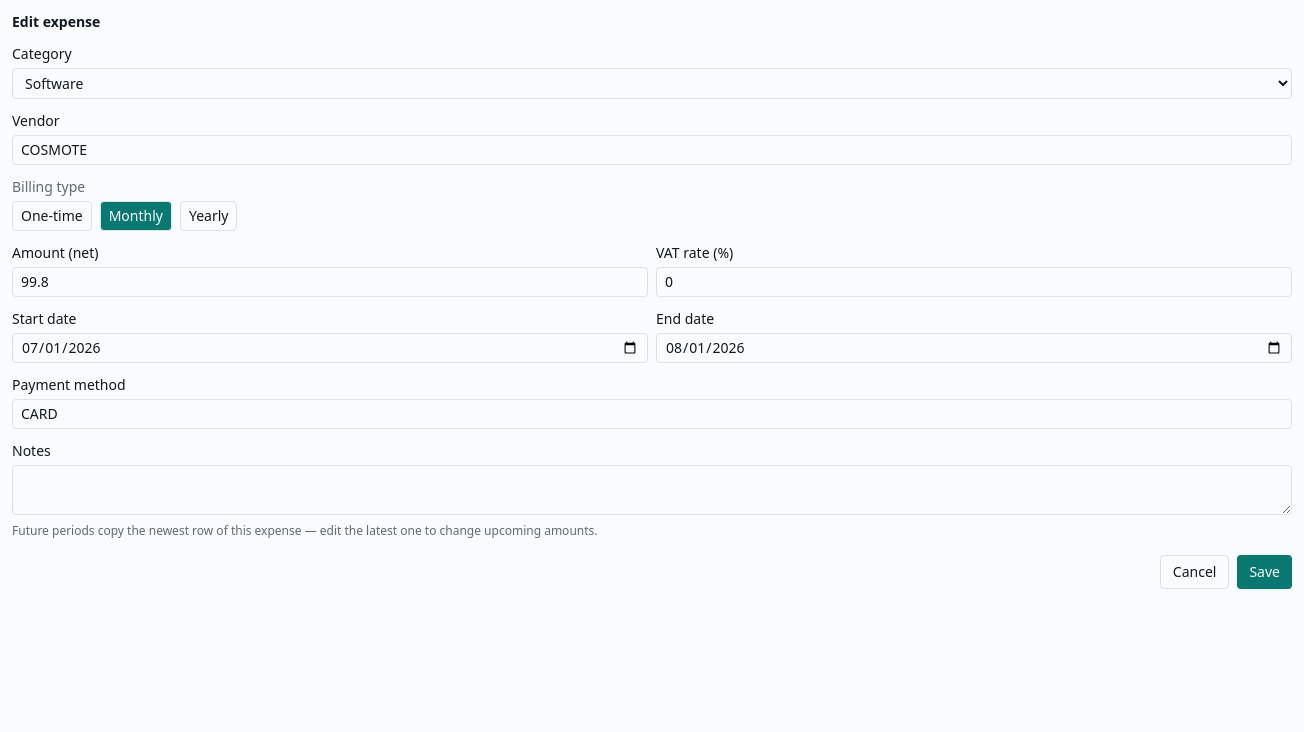
ExpenseEditForm › blocks save when amount is emptied
The width and height of the screenshot is (1304, 732).
Clear the number field labelled "Amount (net)": (330, 282) [12,267,648,297]
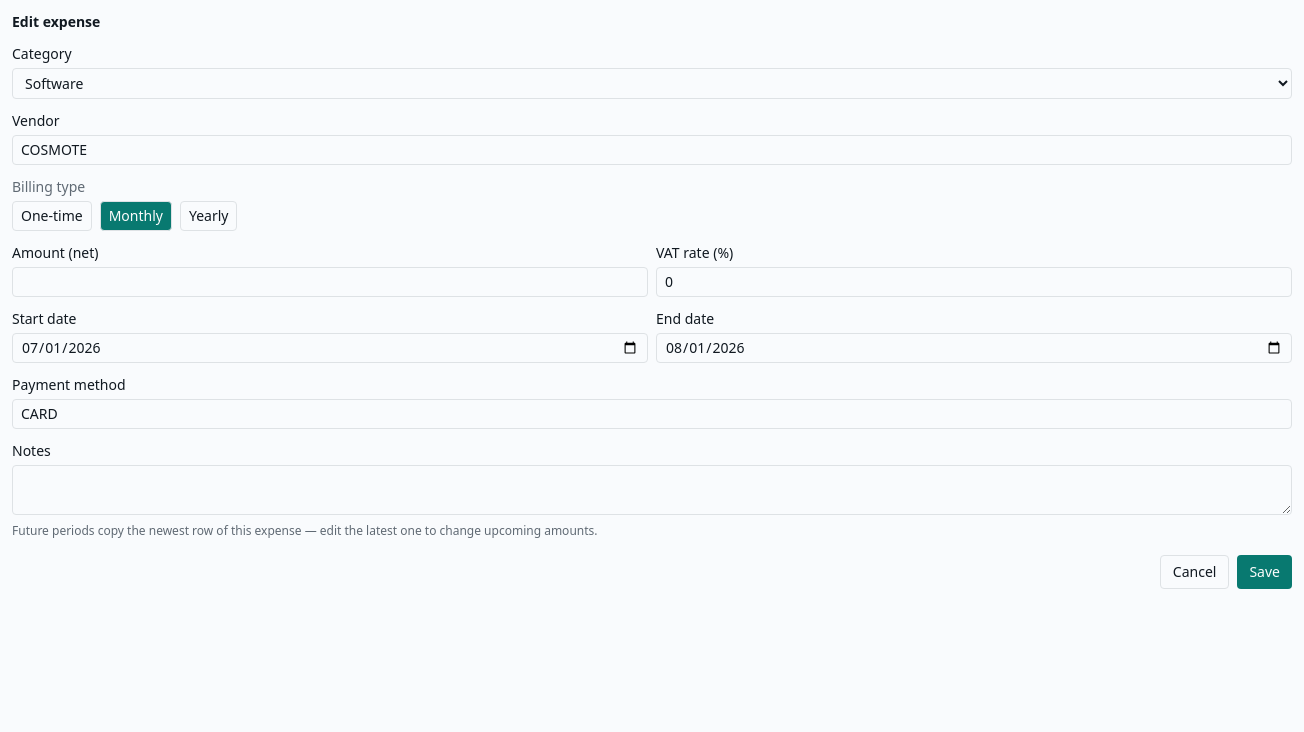
Click the button "Save": click(1265, 572) [1237,555,1292,589]
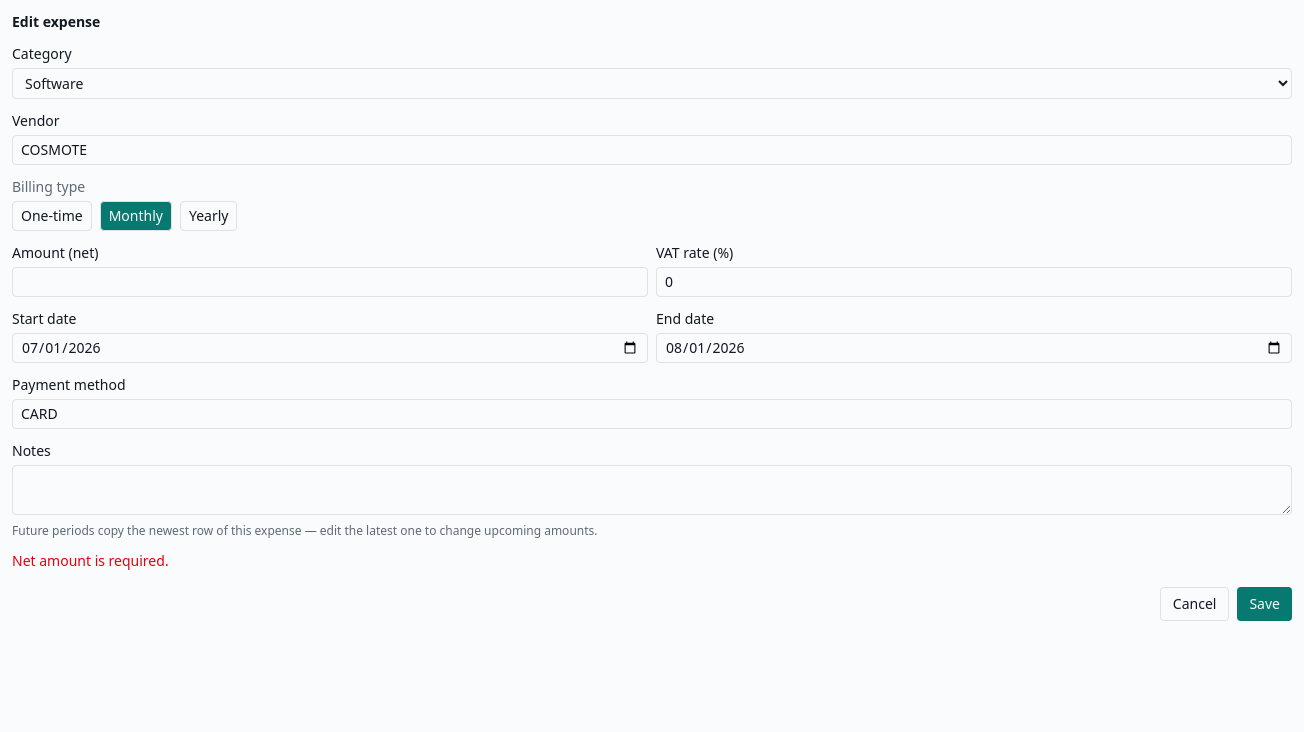
Check: the text "Net amount is required." is shown, box [12,551,169,570]
